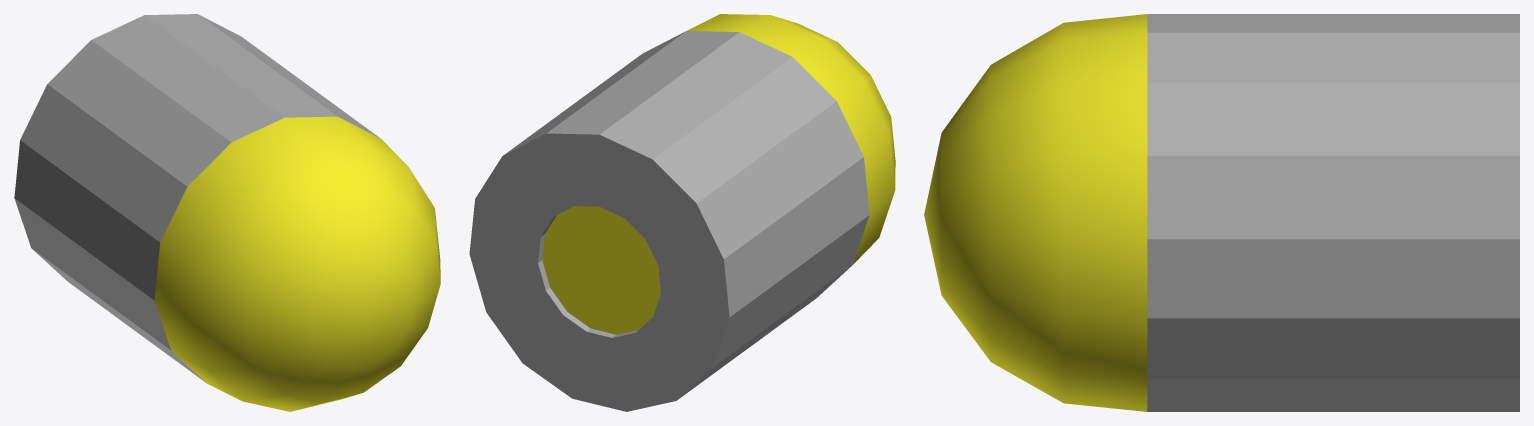
The model's file is Bullet.FBX.
3 views of the same model, side by side, from view 1: azimuth 30°, elevation 25°; view 2: azimuth 150°, elevation 25°; view 3: azimuth 270°, elevation 25° (orthographic). The views are drawn at different scales.
Visible parts, largest first — view 1: Bullet; view 2: Bullet; view 3: Bullet.
Part boxes in pixels (x1,y1,x2,y2): Bullet: (14, 14, 440, 411); Bullet: (469, 14, 895, 411); Bullet: (924, 14, 1519, 411).
Size of the model in its own units: 27.29 by 27.14 by 40.69.
